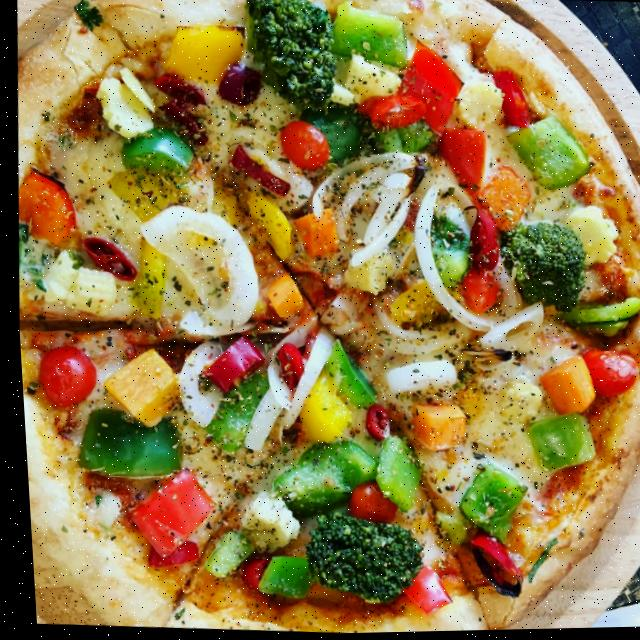pizza: (0, 0, 640, 640)
tomatoes: (23, 336, 100, 413), (564, 348, 639, 407), (352, 93, 432, 136), (274, 116, 331, 176), (485, 68, 535, 132), (449, 265, 501, 323), (336, 478, 394, 528)
